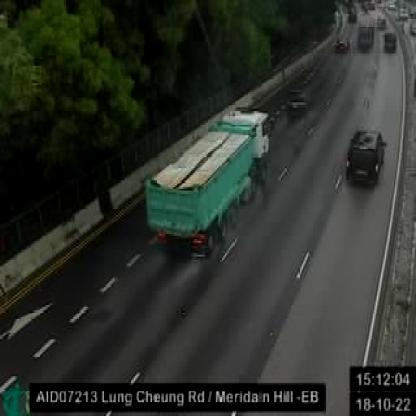Car: (343, 130, 387, 191), (358, 22, 376, 51), (383, 31, 398, 52)
Truck: (147, 111, 273, 260)
